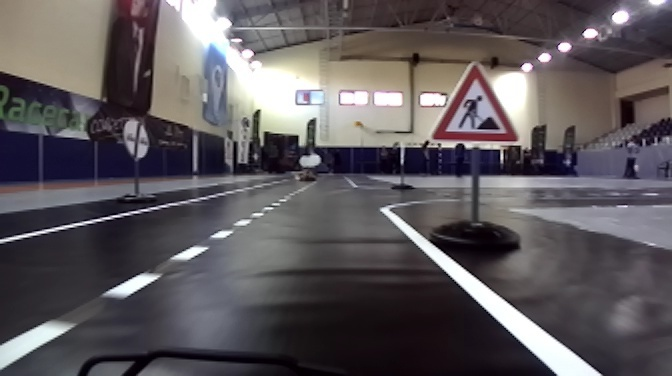yol_yapimi: (431, 64, 514, 145)
